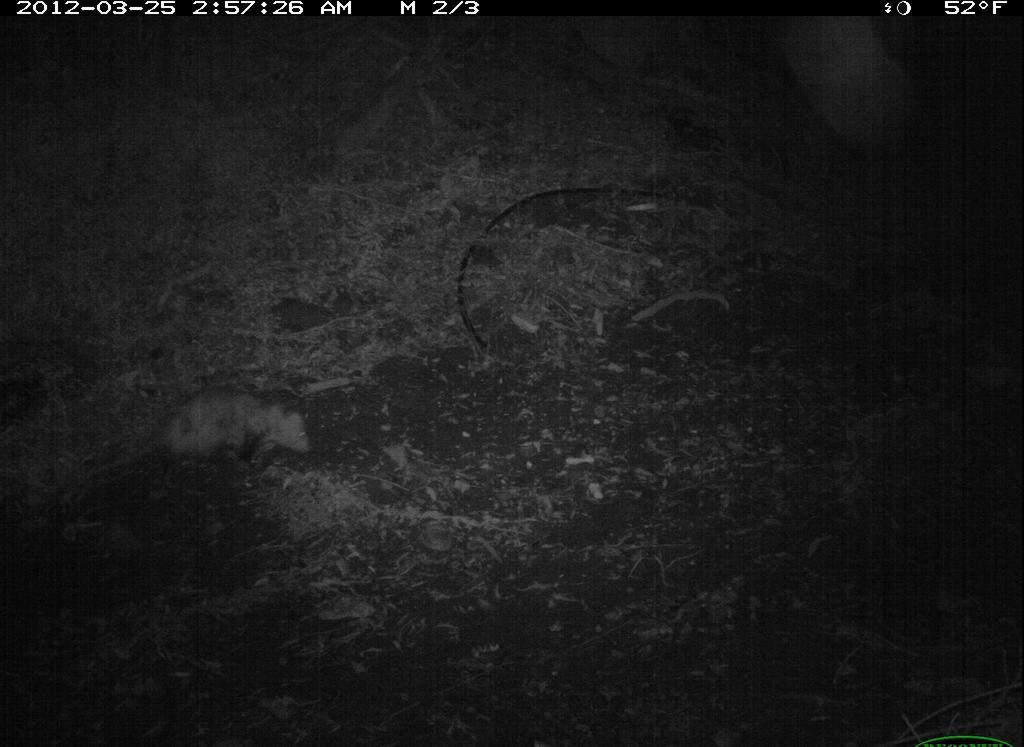opossum: (77, 387, 324, 496)
